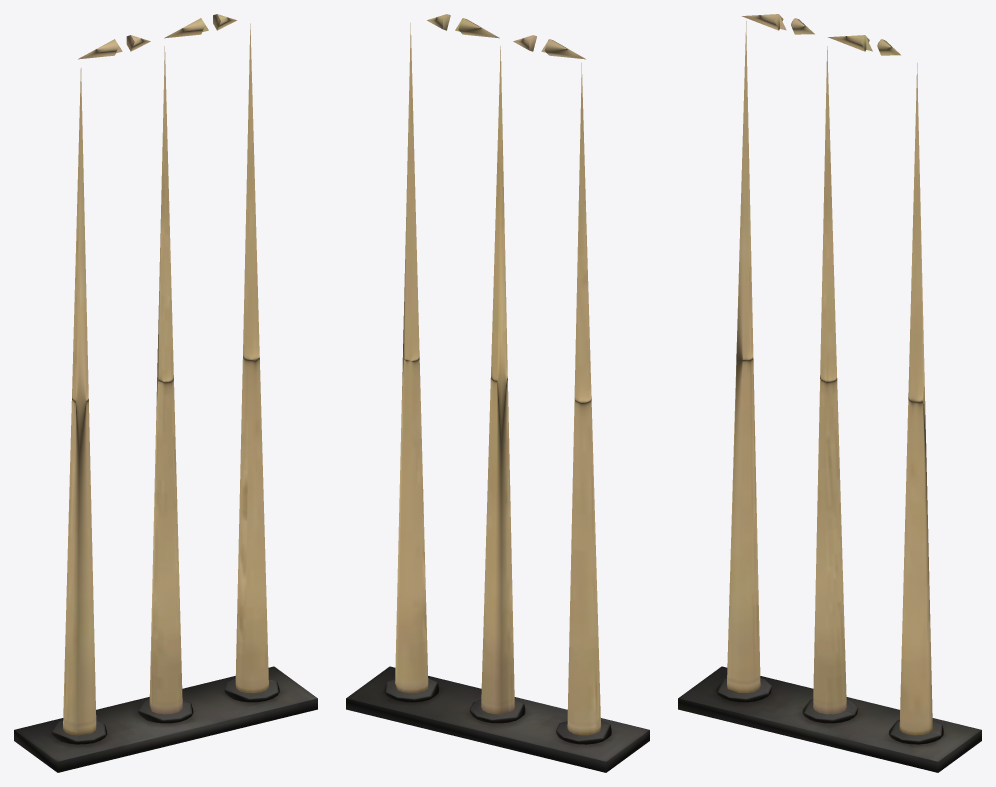
File: cricket-stumps.glb
3 renders of one model, left to right at view 1: azimuth 30°, elevation 25°; view 2: azimuth 150°, elevation 25°; view 3: azimuth 330°, elevation 25°, orthographic.
Visible parts, largest first — view 1: stumps, bail_1, bail_2; view 2: stumps, bail_2, bail_1; view 3: stumps, bail_1, bail_2.
Boxes of the visible parts, x1,y1,x2,y2 form: stumps: (14,23,317,772); bail_1: (78,35,150,59); bail_2: (164,14,236,38); stumps: (346,23,649,772); bail_2: (427,14,499,38); bail_1: (513,35,585,59); stumps: (678,21,981,772); bail_1: (741,14,814,34); bail_2: (828,35,900,55).
Size of the model in its own units: 0.2878 by 0.7387 by 0.0837.
Materials: 1 (1 with a texture image).
